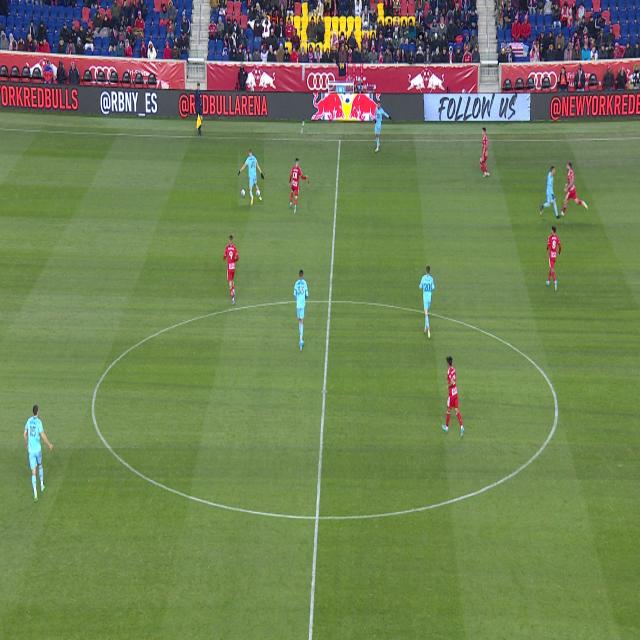football: (257, 189, 260, 197)
player: (24, 405, 53, 501), (442, 356, 464, 439), (559, 162, 588, 216), (238, 149, 264, 205), (294, 270, 309, 351), (419, 265, 435, 338), (223, 235, 239, 305), (541, 166, 561, 219), (290, 158, 308, 214), (546, 225, 561, 291), (375, 101, 391, 152), (479, 127, 490, 177)
